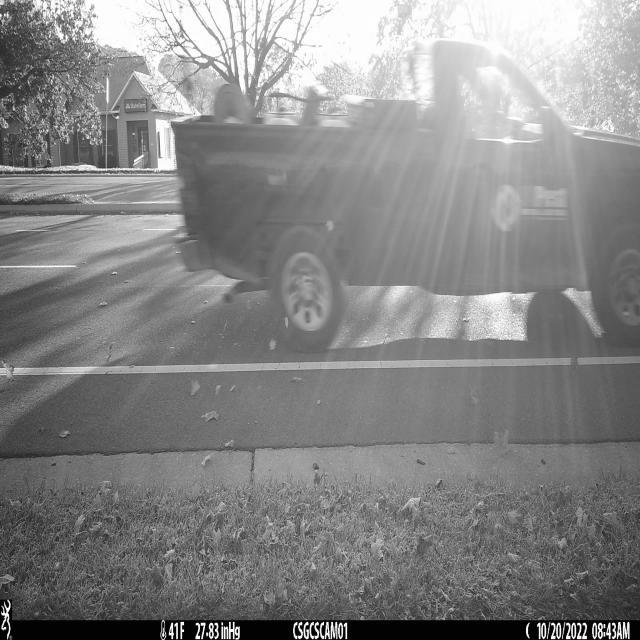Pickup: (168, 40, 640, 354)
